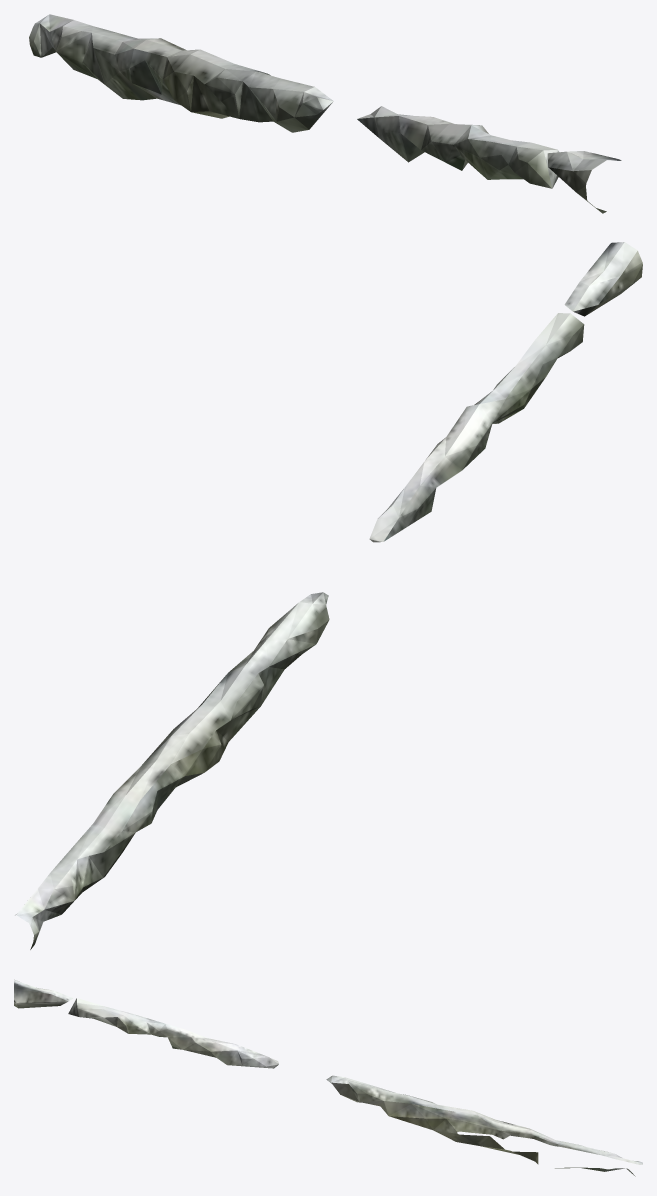
The picture shows the model from 3 angles, top to bottom: view 1: azimuth 30°, elevation 25°; view 2: azimuth 150°, elevation 25°; view 3: azimuth 270°, elevation 25°; orthographic projection. The views are drawn at different scales.
Bounding box in the file's own units: 0.2576 × 0.9556 × 2.95.
1 material, 1 textured.
